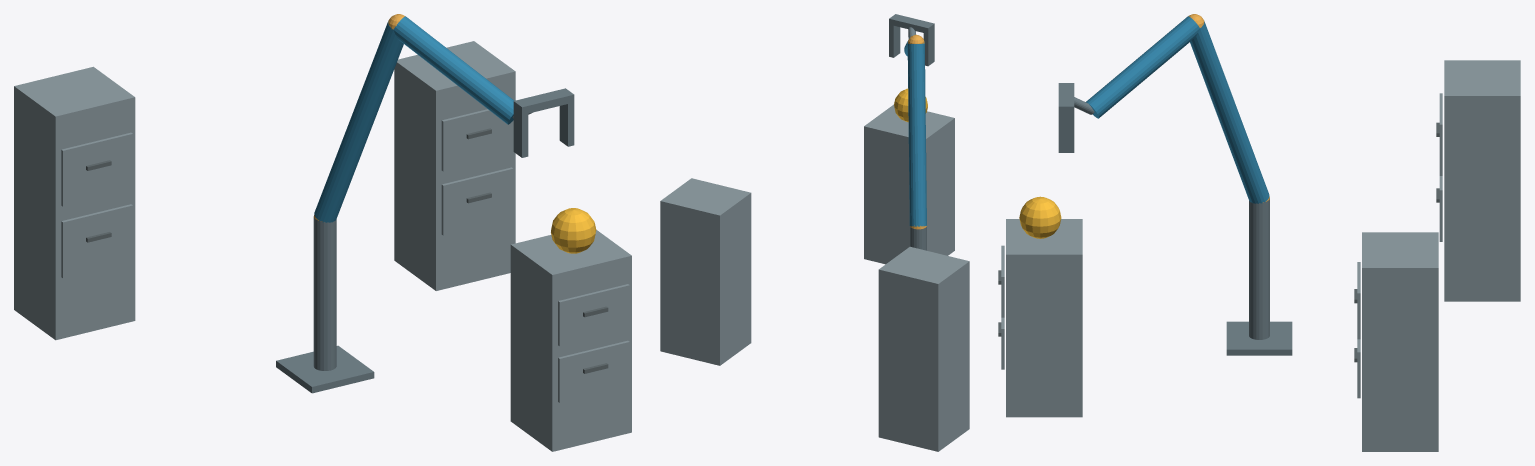
3 views of the same model, side by side, from view 1: azimuth 30°, elevation 25°; view 2: azimuth 150°, elevation 25°; view 3: azimuth 270°, elevation 25° (orthographic). The views are drawn at different scales.
Parts seen in each view (by area): view 1: cabinet_3 body, cabinet_2 body, cabinet_1 body, moving link 1, cabinet_3 drawer front.001, cabinet_3 drawer front, cabinet_2 drawer front, fixed post, moving link 2, cabinet_2 drawer front.001, cabinet_1 drawer front.001, cabinet_1 drawer front (+5 smaller); view 2: cabinet_3 body, cabinet_2 body, cabinet_1 body, moving link 1, gripper bridge, ball ball_1, gripper finger 1, fixed post, gripper finger -1; view 3: cabinet_3 body, cabinet_2 body, cabinet_1 body, moving link 1, moving link 2, fixed post, pedestal, ball ball_1, gripper finger 1, gripper bridge.
Part boxes in pixels (x1,y1,x2,y2): cabinet_3 body: [14, 66, 135, 340]; cabinet_2 body: [394, 41, 515, 290]; cabinet_1 body: [510, 230, 631, 451]; moving link 1: [314, 21, 403, 222]; cabinet_3 drawer front.001: [61, 132, 132, 206]; cabinet_3 drawer front: [61, 204, 132, 278]; cabinet_2 drawer front: [441, 167, 513, 235]; fixed post: [313, 216, 336, 370]; moving link 2: [393, 16, 514, 124]; cabinet_2 drawer front.001: [441, 109, 513, 171]; cabinet_1 drawer front.001: [558, 284, 629, 346]; cabinet_1 drawer front: [558, 340, 629, 402]; cabinet_3 body: [878, 246, 969, 451]; cabinet_2 body: [660, 178, 751, 365]; cabinet_1 body: [864, 104, 954, 264]; moving link 1: [907, 43, 926, 226]; gripper bridge: [889, 14, 934, 33]; ball ball_1: [894, 88, 927, 122]; gripper finger 1: [889, 24, 900, 57]; fixed post: [910, 226, 926, 250]; gripper finger -1: [923, 30, 934, 66]; cabinet_3 body: [1444, 60, 1520, 301]; cabinet_2 body: [1362, 232, 1438, 451]; cabinet_1 body: [1006, 219, 1082, 417]; moving link 1: [1190, 21, 1269, 203]; moving link 2: [1086, 16, 1199, 118]; fixed post: [1249, 199, 1269, 339]; pedestal: [1226, 321, 1292, 355]; ball ball_1: [1019, 196, 1061, 238]; gripper finger 1: [1058, 113, 1074, 152]; gripper bridge: [1058, 83, 1074, 113].
Size of the model in its own units: 1.67 by 1.44 by 1.98.
